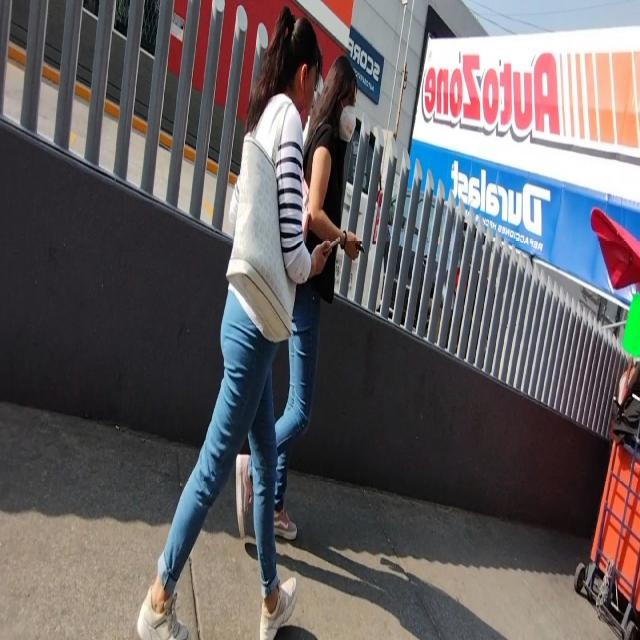adult: (139, 18, 329, 640), (236, 49, 364, 544)
